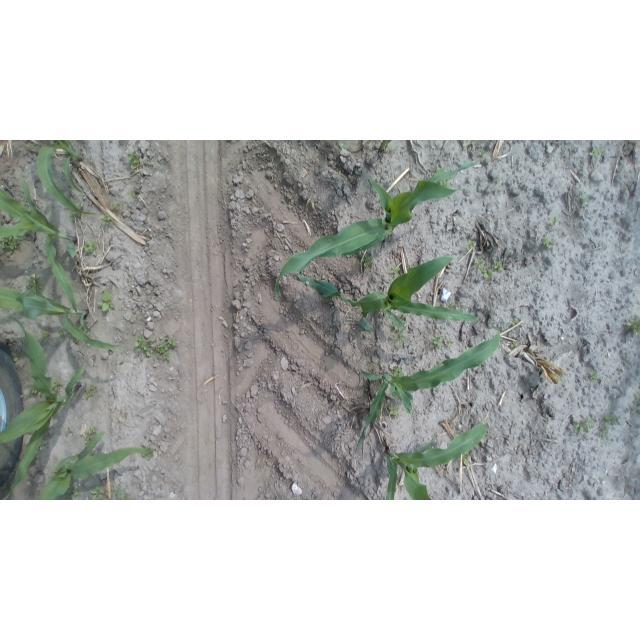Maize: (273, 156, 484, 298), (351, 330, 503, 455), (0, 314, 88, 500), (293, 255, 482, 330), (1, 178, 88, 315), (34, 430, 155, 500), (0, 285, 126, 352), (383, 422, 489, 500), (37, 140, 90, 218), (378, 140, 395, 154)
Weeds: (134, 333, 178, 364), (91, 484, 138, 501), (474, 255, 507, 279), (433, 166, 456, 189), (25, 273, 48, 295), (95, 291, 117, 313), (571, 417, 596, 436), (430, 335, 454, 351), (127, 151, 145, 172), (79, 241, 101, 258), (623, 315, 640, 336), (1, 234, 22, 250), (83, 427, 98, 448), (82, 384, 99, 400), (27, 385, 44, 401), (359, 252, 374, 269), (588, 146, 607, 159), (603, 410, 618, 426), (598, 424, 613, 440), (388, 401, 401, 419), (141, 445, 156, 460), (69, 483, 84, 498), (100, 213, 116, 227), (546, 215, 559, 232), (575, 191, 588, 208), (458, 452, 471, 469), (392, 329, 408, 342), (463, 239, 480, 250), (633, 389, 640, 415), (109, 201, 124, 213), (542, 238, 555, 251), (40, 329, 52, 343), (389, 265, 404, 276), (128, 189, 139, 204), (50, 379, 63, 391), (448, 301, 465, 310), (588, 370, 600, 382), (390, 366, 402, 377), (57, 330, 68, 341), (509, 339, 520, 350), (508, 318, 519, 327), (399, 313, 410, 322), (292, 384, 302, 393), (478, 150, 487, 159), (13, 355, 20, 364)
